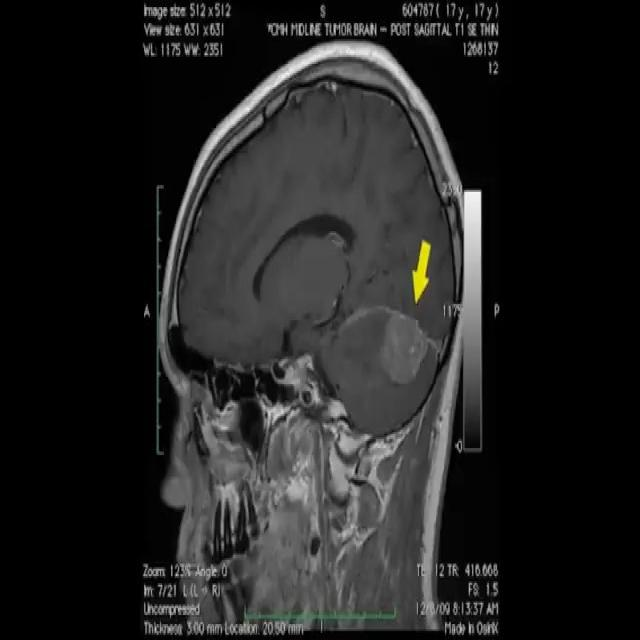tumor: (370, 296, 440, 428)
